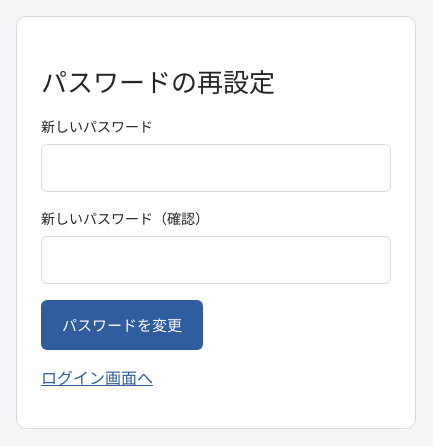
Test case: ResetPasswordPage › token無効・期限切れの場合はサーバーのエラーメッセージを表示する
Expected: the button "パスワードを変更" is enabled, [41,300,203,350]
In the password field labelled "新しいパスワード": (216, 168) [41,144,391,192], type "Passw0rd123!"
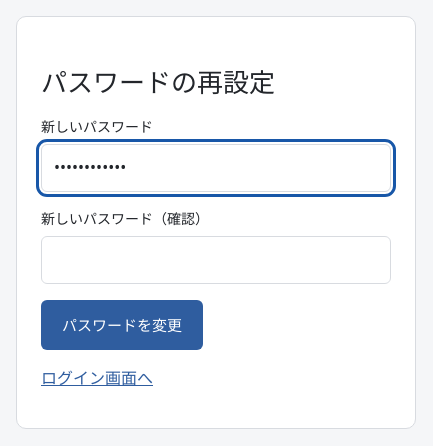
In the password field labelled "新しいパスワード（確認）": (216, 260) [41,236,391,284], type "Passw0rd123!"
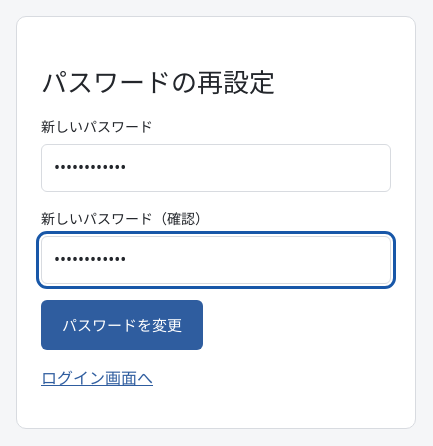
Click the button "パスワードを変更": (122, 325) [41,300,203,350]
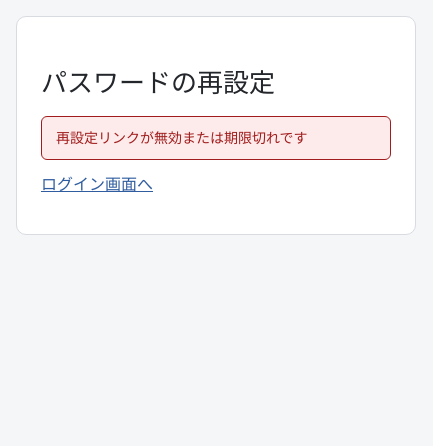
Result: the message reads "再設定リンクが無効または期限切れです" at [56,128,308,147]
Result: the label labelled "新しいパスワード" is gone
